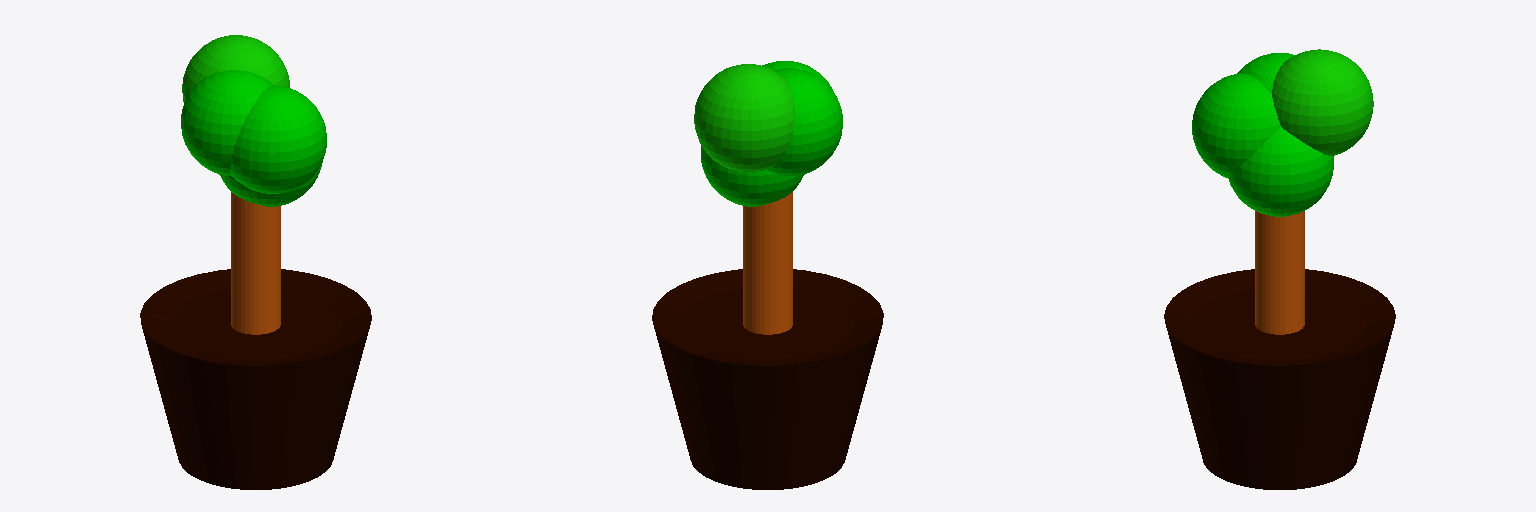
Rendered from gorshok.obj.
3 renders of one model, left to right at view 1: azimuth 30°, elevation 25°; view 2: azimuth 150°, elevation 25°; view 3: azimuth 270°, elevation 25°, orthographic.
Visible parts, largest first — view 1: Cylinder, Sphere.002, Cylinder.001, Sphere, Sphere.003, Sphere.001; view 2: Cylinder, Sphere.003, Cylinder.001, Sphere, Sphere.001; view 3: Cylinder, Sphere.003, Sphere.002, Sphere.001, Cylinder.001, Sphere.
Boxes of the visible parts, <box> form: Cylinder: <box>140,269,371,489</box>; Sphere.002: <box>230,85,326,193</box>; Cylinder.001: <box>231,192,280,334</box>; Sphere: <box>181,70,272,176</box>; Sphere.003: <box>182,35,289,102</box>; Sphere.001: <box>219,161,322,206</box>; Cylinder: <box>652,269,883,489</box>; Sphere.003: <box>694,64,794,171</box>; Cylinder.001: <box>743,192,792,334</box>; Sphere: <box>767,68,842,176</box>; Sphere.001: <box>701,145,804,206</box>; Cylinder: <box>1164,269,1395,489</box>; Sphere.003: <box>1272,49,1373,155</box>; Sphere.002: <box>1192,73,1280,177</box>; Sphere.001: <box>1228,127,1333,216</box>; Cylinder.001: <box>1255,211,1304,334</box>; Sphere: <box>1237,53,1294,93</box>.
Size of the model in its own units: 1.5 by 2.86 by 1.5.